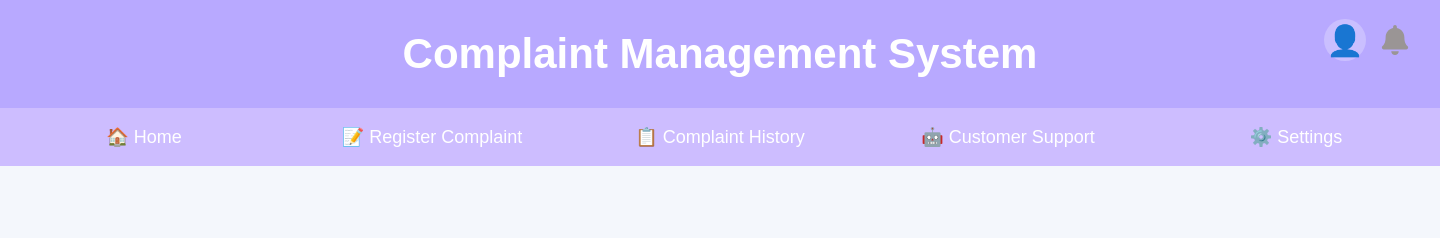
Test: UserDashboard Component › closes profile dropdown on second click
The width and height of the screenshot is (1440, 238).
Click the icon "👤" at (1345, 40), box [1324,19,1366,61]
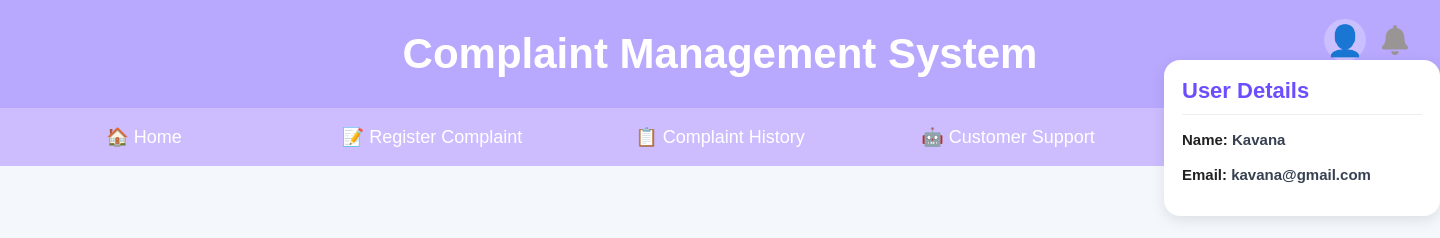
expect the heading "User Details" is shown: met, box [1182,78,1422,115]
Click the icon "👤" at (1345, 40), box [1324,19,1366,61]
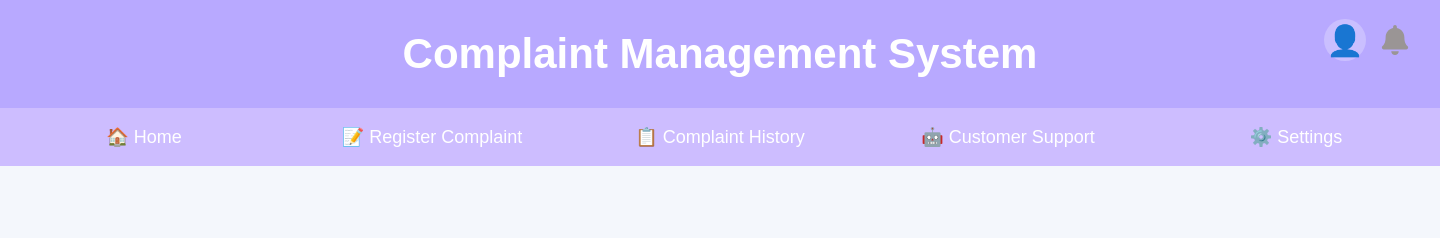
expect the heading "User Details" is gone: met
